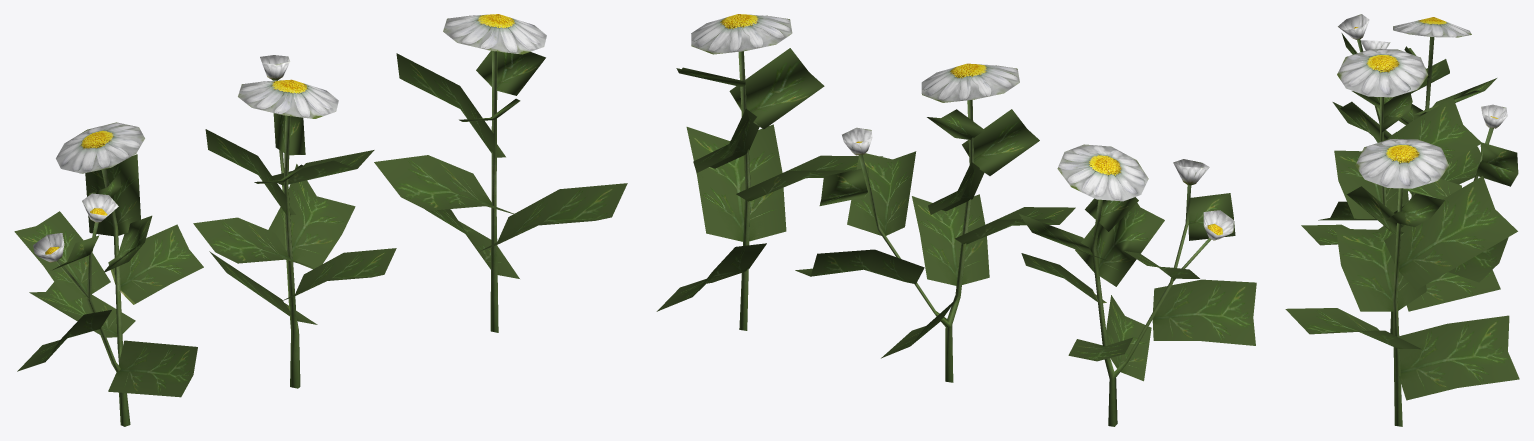
Rendered from Chamomile_m.FBX.
The picture shows the model from 3 angles, left to right: view 1: azimuth 30°, elevation 25°; view 2: azimuth 150°, elevation 25°; view 3: azimuth 270°, elevation 25°; orthographic projection. The views are drawn at different scales.
Parts seen in each view (by area): view 1: Chamomile, Object001, Object002; view 2: Object001, Chamomile, Object002; view 3: Object002, Object001, Chamomile.
Boxes of the visible parts, bbox=[...] form: Chamomile: bbox=[14, 122, 203, 426]; Object001: bbox=[193, 55, 396, 388]; Object002: bbox=[374, 14, 627, 332]; Object001: bbox=[795, 63, 1075, 382]; Chamomile: bbox=[1019, 144, 1256, 426]; Object002: bbox=[656, 14, 882, 330]; Object002: bbox=[1285, 139, 1519, 426]; Object001: bbox=[1301, 49, 1518, 334]; Chamomile: bbox=[1318, 14, 1496, 220].
Bounding box in the file's own units: 162 × 83.69 × 62.79.
